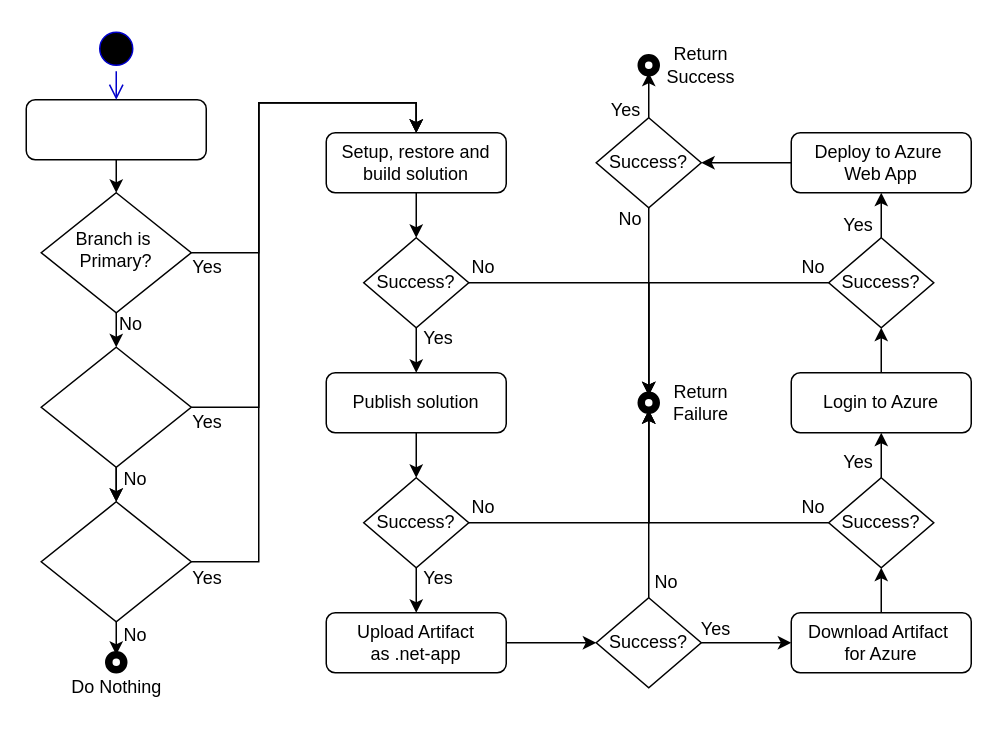
Image size: 998x737. Some labels were removed from this diagram. Here are the shapes that lost their labels. From the top down, the centre of each, then its label:
At (115,129): "Event triggers workflow".
At (115,406): "Event type push?".
At (115,561): "Event type pull request?".
